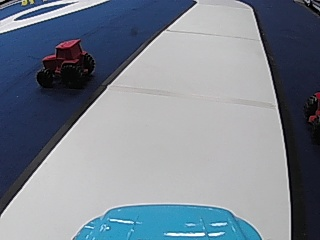tractor: (35, 38, 96, 89), (303, 91, 319, 127)
